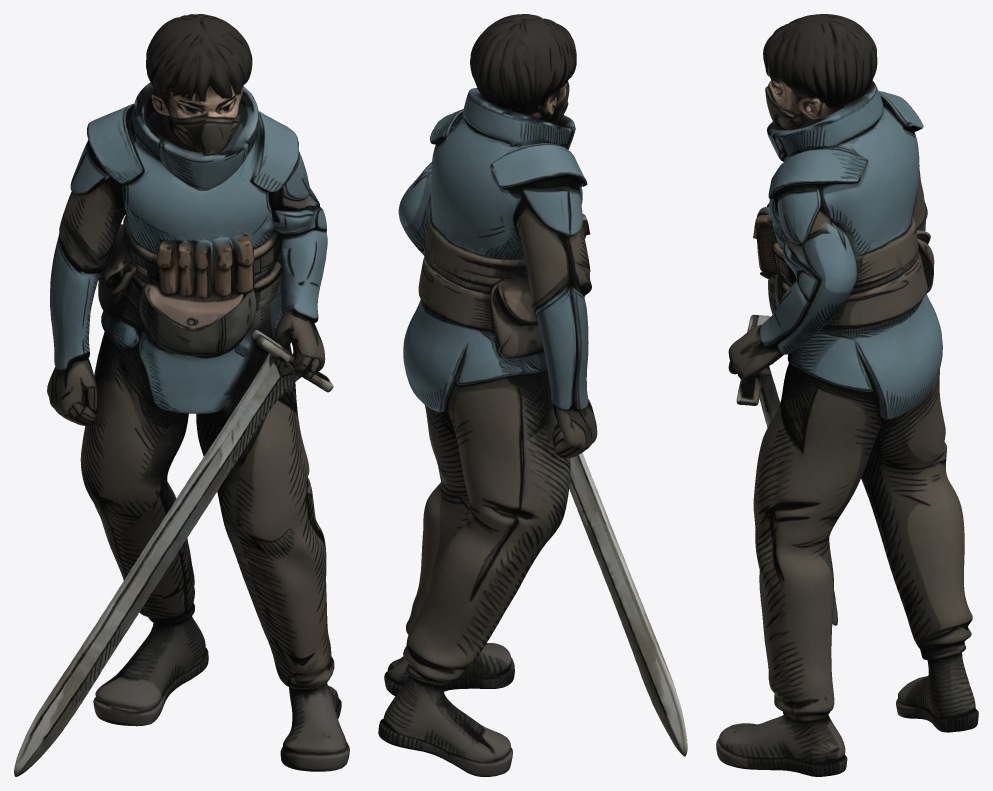
The picture shows the model from 3 angles, left to right: view 1: azimuth 30°, elevation 25°; view 2: azimuth 150°, elevation 25°; view 3: azimuth 270°, elevation 25°; orthographic projection. The views are drawn at different scales.
Visible parts, largest first — view 1: tmplvk9yfrrobj; view 2: tmplvk9yfrrobj; view 3: tmplvk9yfrrobj.
Boxes of the visible parts, x1=… form: tmplvk9yfrrobj: x1=14, y1=14, x2=349, y2=776; tmplvk9yfrrobj: x1=378, y1=14, x2=687, y2=776; tmplvk9yfrrobj: x1=716, y1=14, x2=978, y2=776.
Bounding box in the file's own units: 0.4551 × 0.9999 × 0.3394.
Materials: 1 (1 with a texture image).
